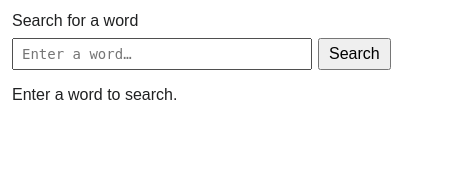
allows dismissal without rewriting the word
This screenshot has width=474, height=172.
Type "bung" into the dropdown at (162, 54), box [12,38,312,70]
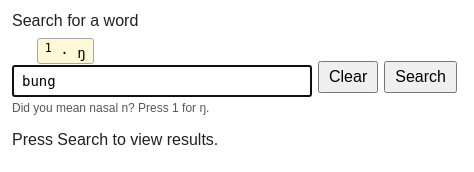
Type keys "{Escape}1"
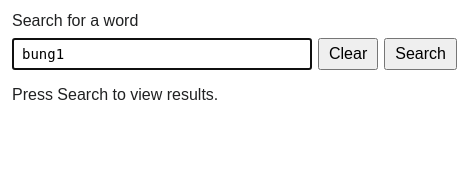
Expected: the dropdown holds "bung1", [12,38,312,70]
